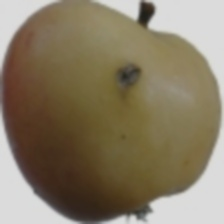apple: (30, 21, 216, 221)
